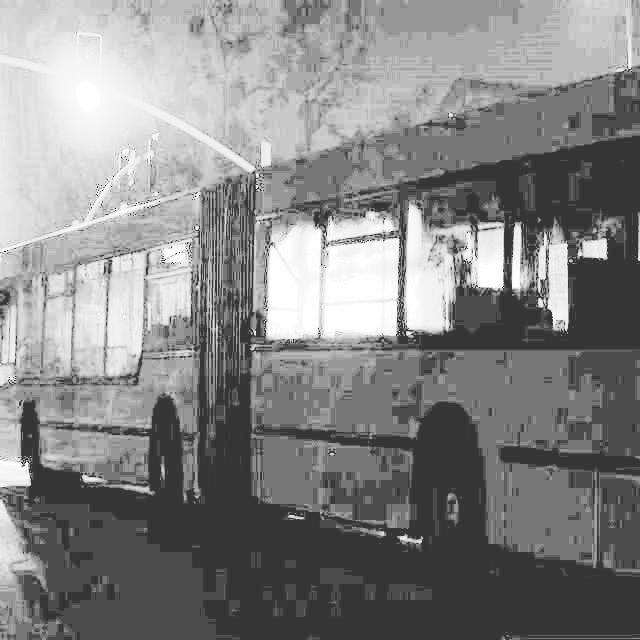Bus: (9, 60, 631, 563)
